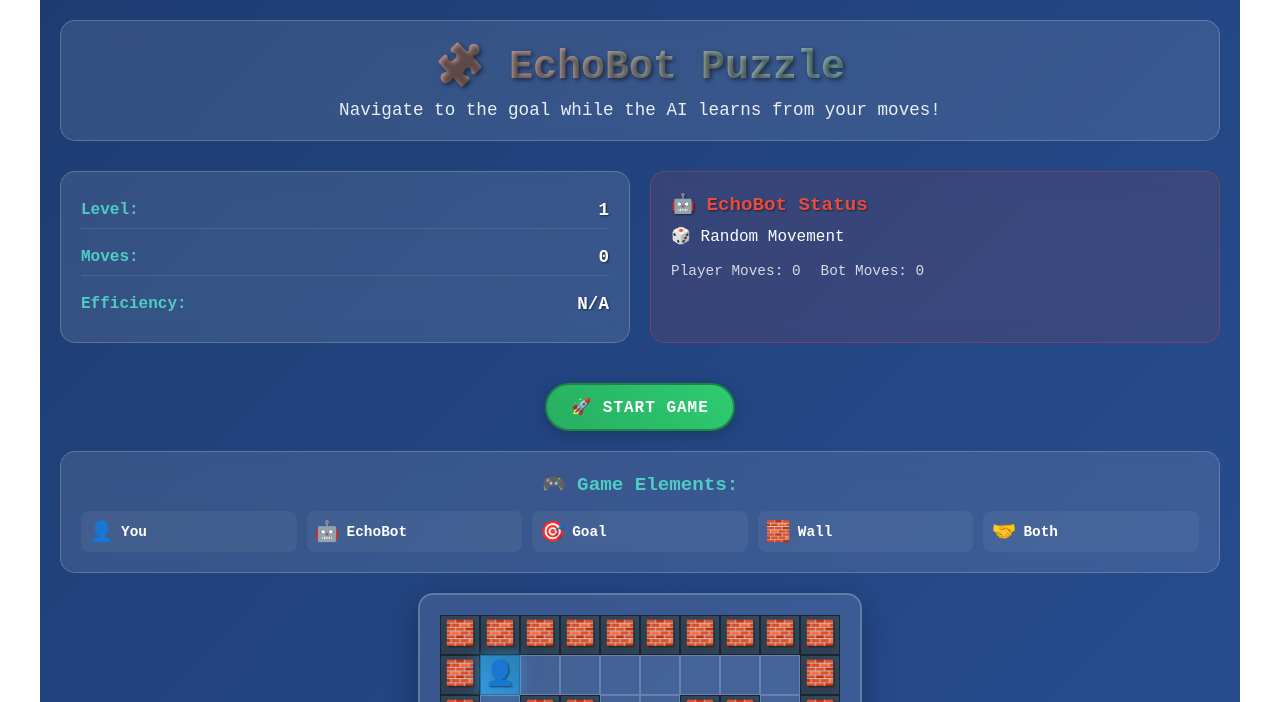
Test: PuzzleGame › start button changes game state
Click the button "🚀 Start Game" at (640,407), box x1=545 y1=383 x2=735 y2=431
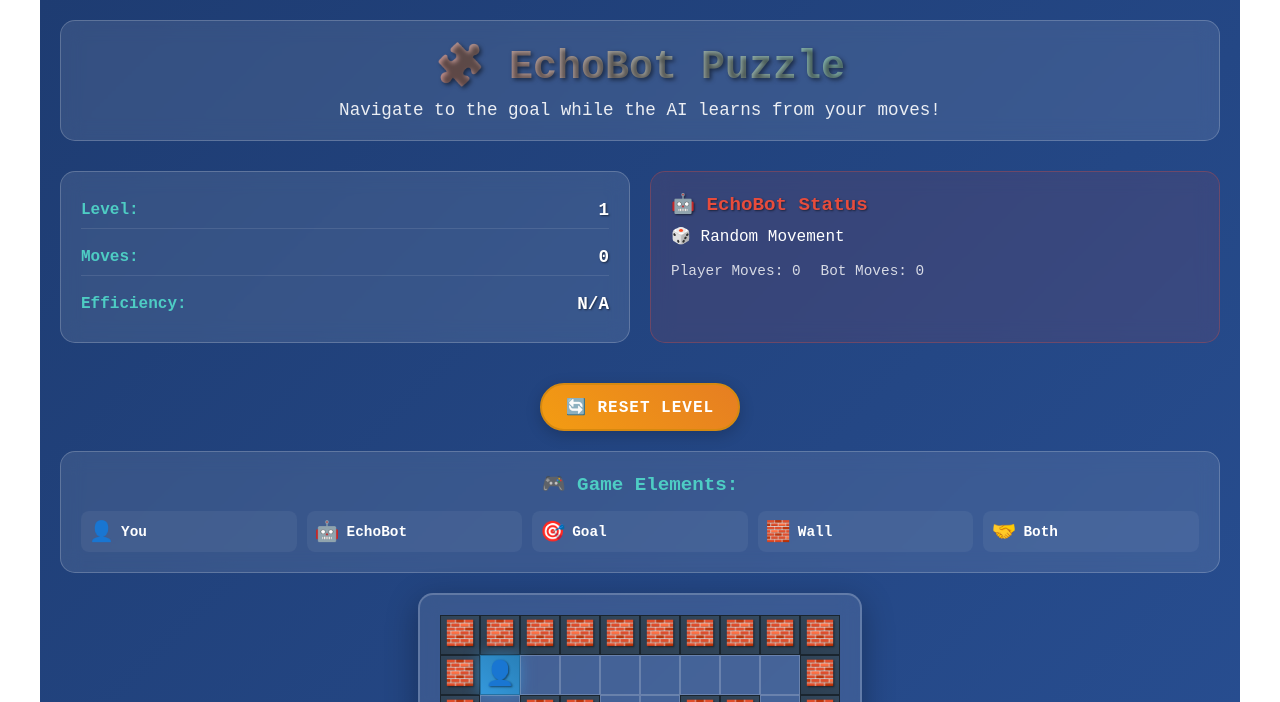
Check: the button "🚀 Start Game" is gone
Check: the button "🔄 Reset Level" is shown, box x1=540 y1=383 x2=740 y2=431
